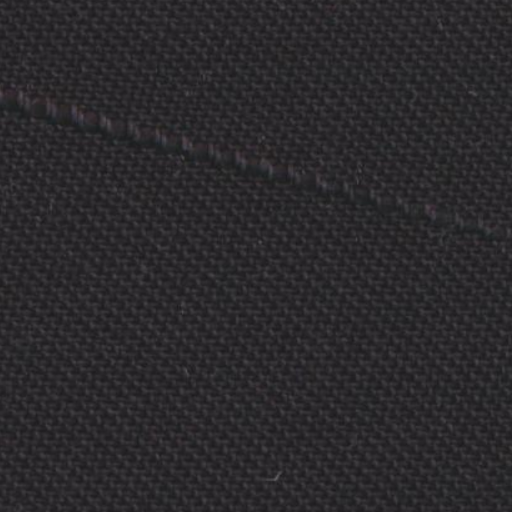DaiSha: (12, 76, 484, 234)
